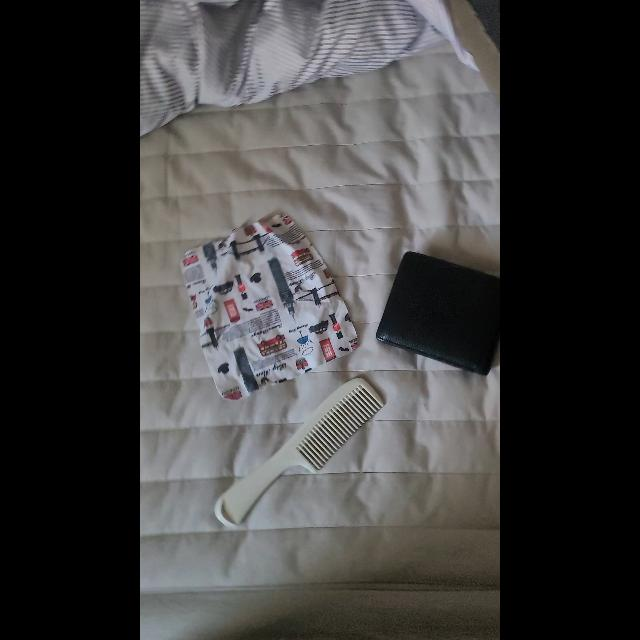COMB: (214, 378, 383, 528)
Glasses cleaning cloth: (180, 212, 358, 400)
WALLET: (376, 252, 500, 376)
